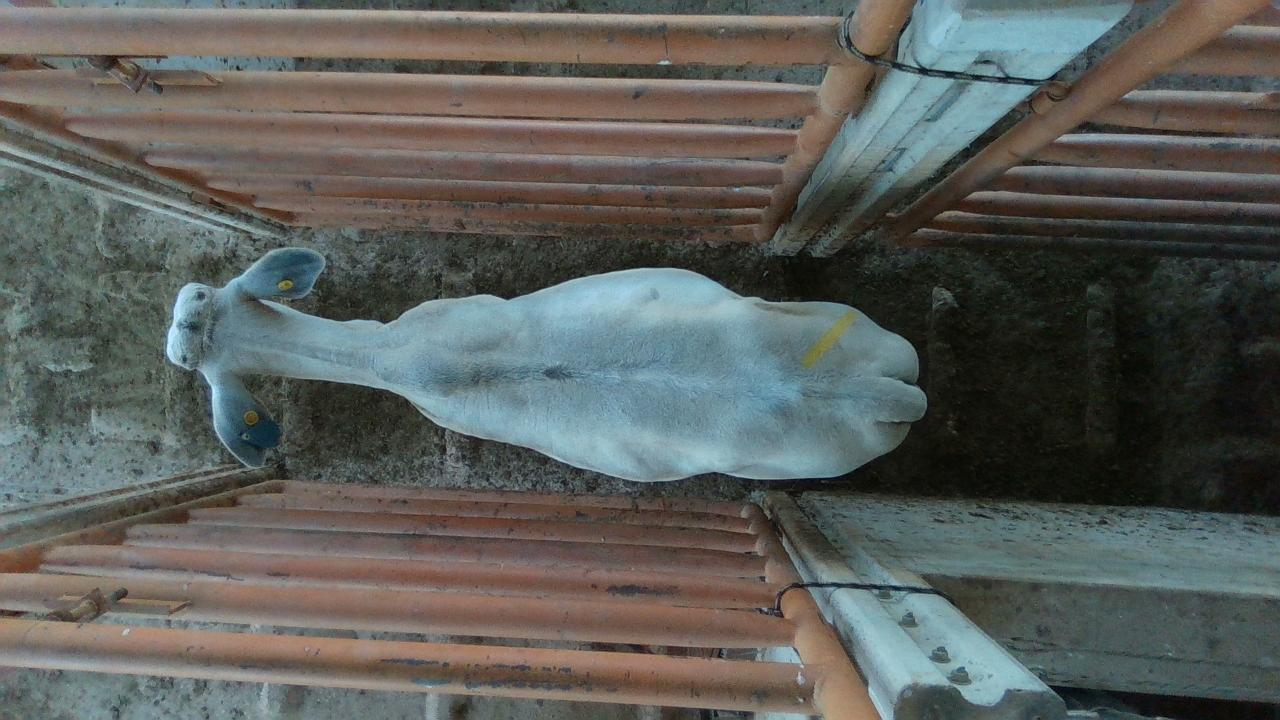cattle: (164, 244, 928, 483)
